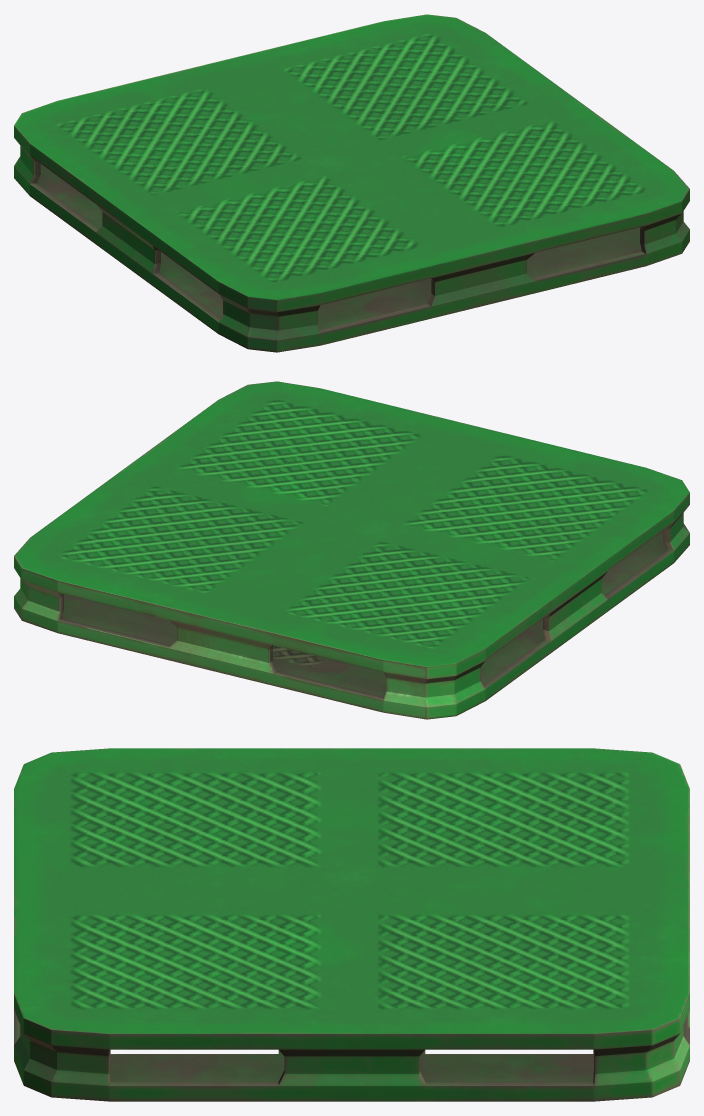
The model's file is eq_Platte.fbx.
3 renders of one model, top to bottom at view 1: azimuth 30°, elevation 25°; view 2: azimuth 150°, elevation 25°; view 3: azimuth 270°, elevation 25°, orthographic. The views are drawn at different scales.
Parts seen in each view (by area): view 1: Platte; view 2: Platte; view 3: Platte.
Part boxes in pixels (x1=…): Platte: x1=14, y1=14, x2=689, y2=352; Platte: x1=14, y1=381, x2=689, y2=719; Platte: x1=14, y1=748, x2=689, y2=1101.
Size of the model in its own units: 1.96 by 0.2163 by 1.96.
